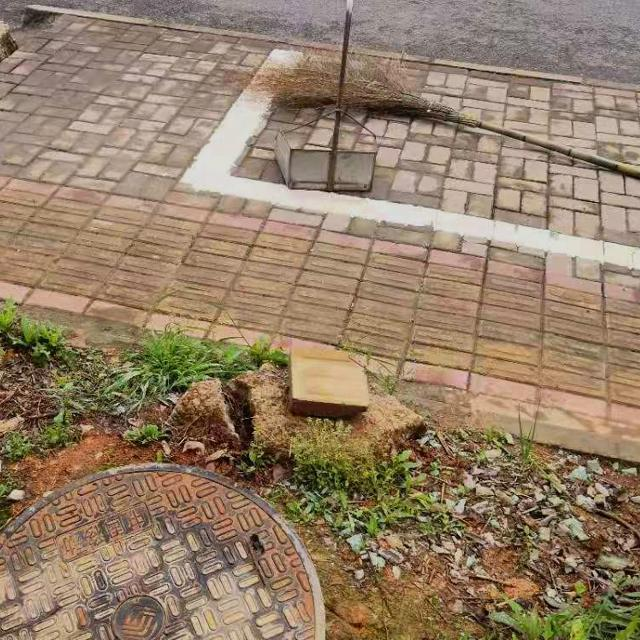uncovered: (0, 465, 327, 640)
